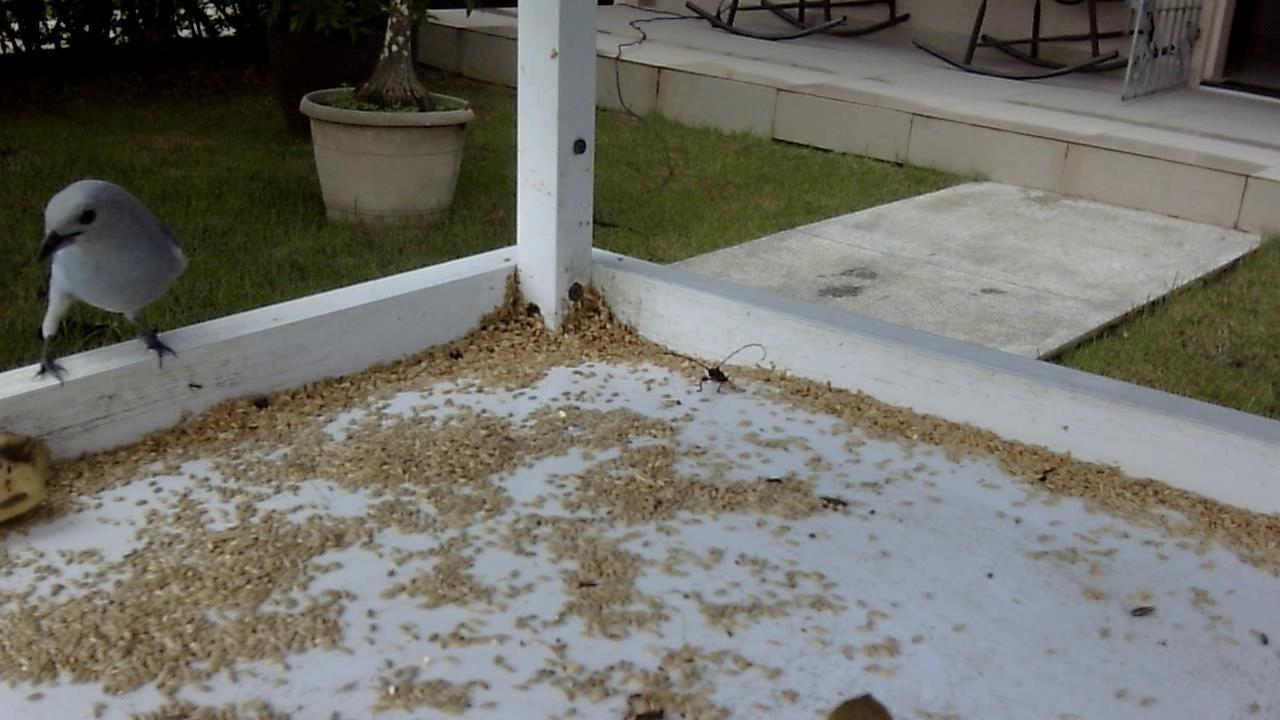sanhaco_da_amazonia: (31, 176, 190, 387)
